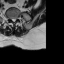CCS_severe_stenosis: (13, 17, 14, 23)
LFS_severe_stenosis: (16, 16, 18, 21)
LLS_normal: (14, 17, 16, 22)
RFS_severe_stenosis: (9, 16, 11, 21)
RLS_stenosis: (11, 16, 13, 22)
